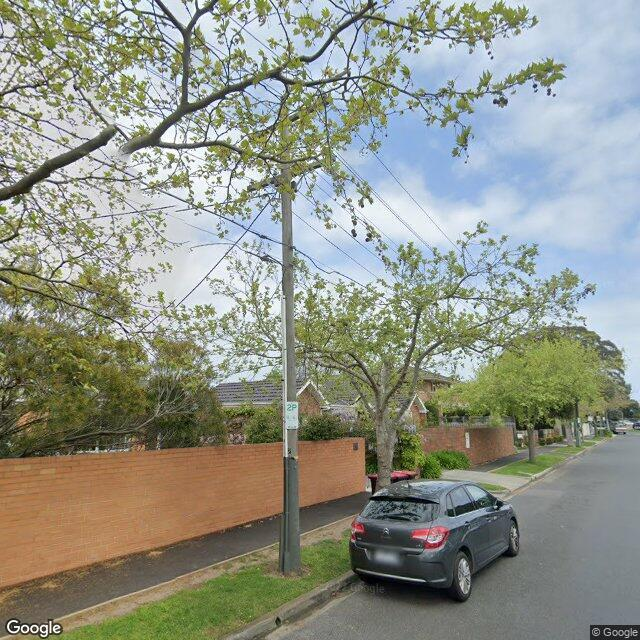crossarm: (246, 156, 336, 192), (256, 98, 330, 138)
timber-pole: (279, 95, 301, 574)
